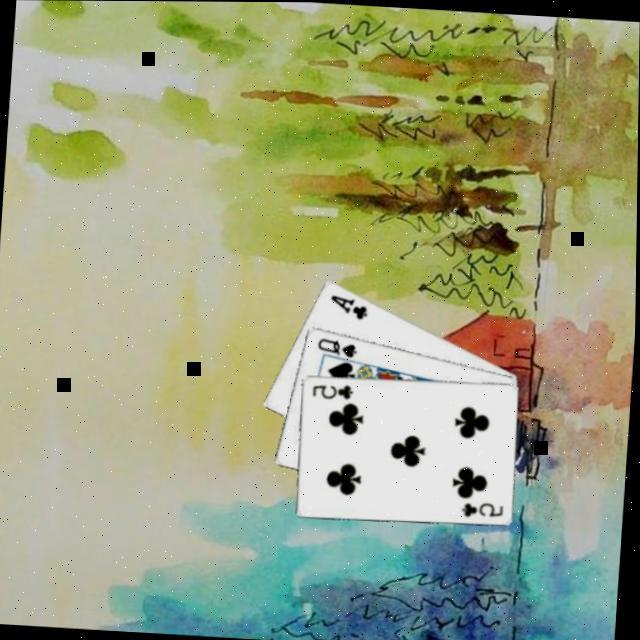5C: (457, 495, 505, 519), (308, 377, 355, 399)
AC: (326, 289, 370, 319)
QS: (313, 331, 360, 357)
